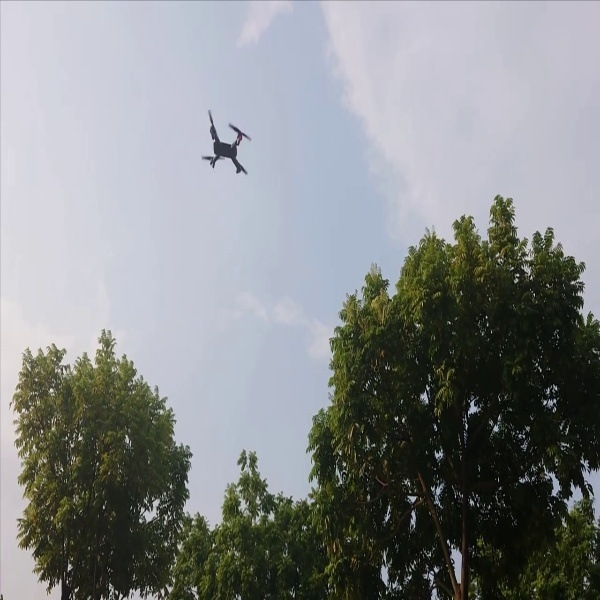drone: (195, 105, 259, 184)
